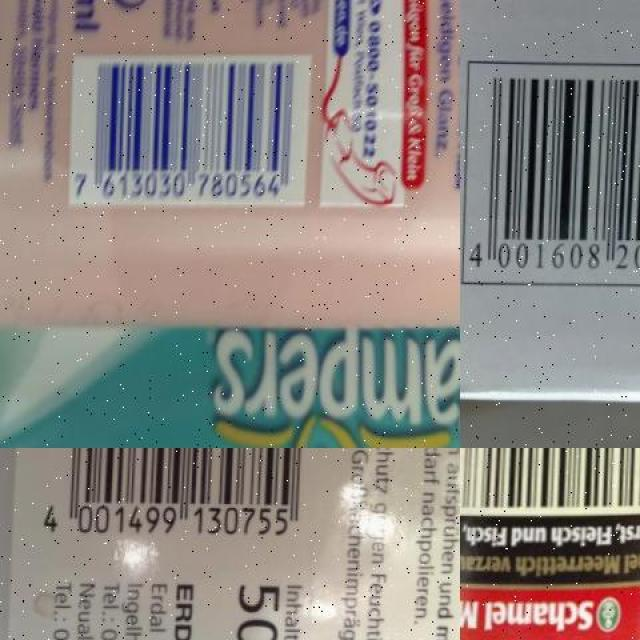Barcode: (461, 58, 640, 290), (68, 55, 313, 209), (30, 448, 322, 552), (460, 448, 640, 515)
